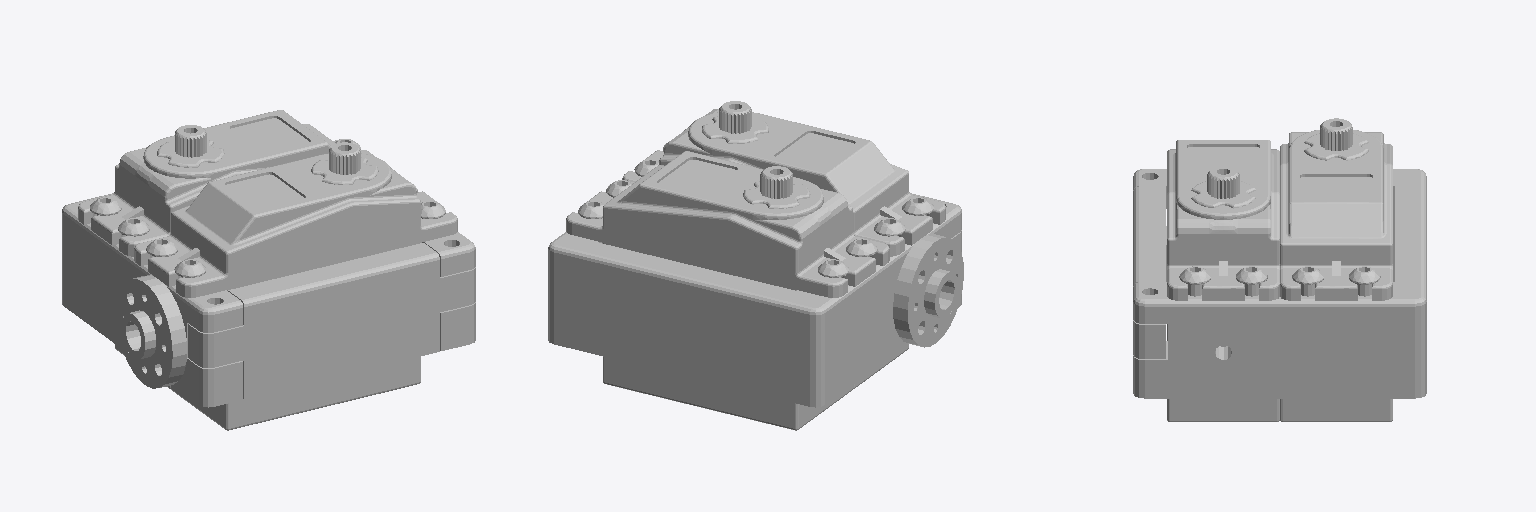
The model's file is rb shoulder.obj.
The picture shows the model from 3 angles: view 1: azimuth 30°, elevation 25°; view 2: azimuth 150°, elevation 25°; view 3: azimuth 270°, elevation 25°; orthographic projection.
Parts seen in each view (by area): view 1: Body4:1, Body4, Body5, Body4:2, Body1:10, Body2, Body3:1, Body3; view 2: Body5, Body4:2, Body4:1, Body1:10, Body2:1, Body3:1, Body3; view 3: Body5, Body4:2, Body4:1, Body4, Body2, Body2:1, Body3:1, Body3, Body1:7, Body1:8, Body1:6, Body1:9.
Boxes of the visible parts, <box> form: Body4:1: <box>134,150,457,297</box>; Body4: <box>188,243,475,398</box>; Body5: <box>62,193,475,407</box>; Body4:2: <box>78,110,399,256</box>; Body1:10: <box>116,275,186,388</box>; Body2: <box>171,357,420,430</box>; Body3:1: <box>175,125,206,157</box>; Body3: <box>329,142,360,174</box>; Body5: <box>548,197,961,407</box>; Body4:2: <box>566,151,889,297</box>; Body4:1: <box>622,109,945,256</box>; Body1:10: <box>893,234,963,347</box>; Body2:1: <box>603,357,852,430</box>; Body3:1: <box>760,166,792,198</box>; Body3: <box>719,101,751,133</box>; Body5: <box>1133,169,1426,398</box>; Body4:2: <box>1280,130,1392,300</box>; Body4:1: <box>1167,140,1279,300</box>; Body4: <box>1133,186,1165,358</box>; Body2: <box>1167,399,1279,421</box>; Body2:1: <box>1280,399,1392,421</box>; Body3:1: <box>1320,118,1352,150</box>; Body3: <box>1207,166,1239,198</box>; Body1:7: <box>1236,266,1267,296</box>; Body1:8: <box>1292,266,1323,296</box>; Body1:6: <box>1179,266,1210,296</box>; Body1:9: <box>1349,266,1380,296</box>.
Size of the model in its own units: 0.0617 by 0.0445 by 0.052.